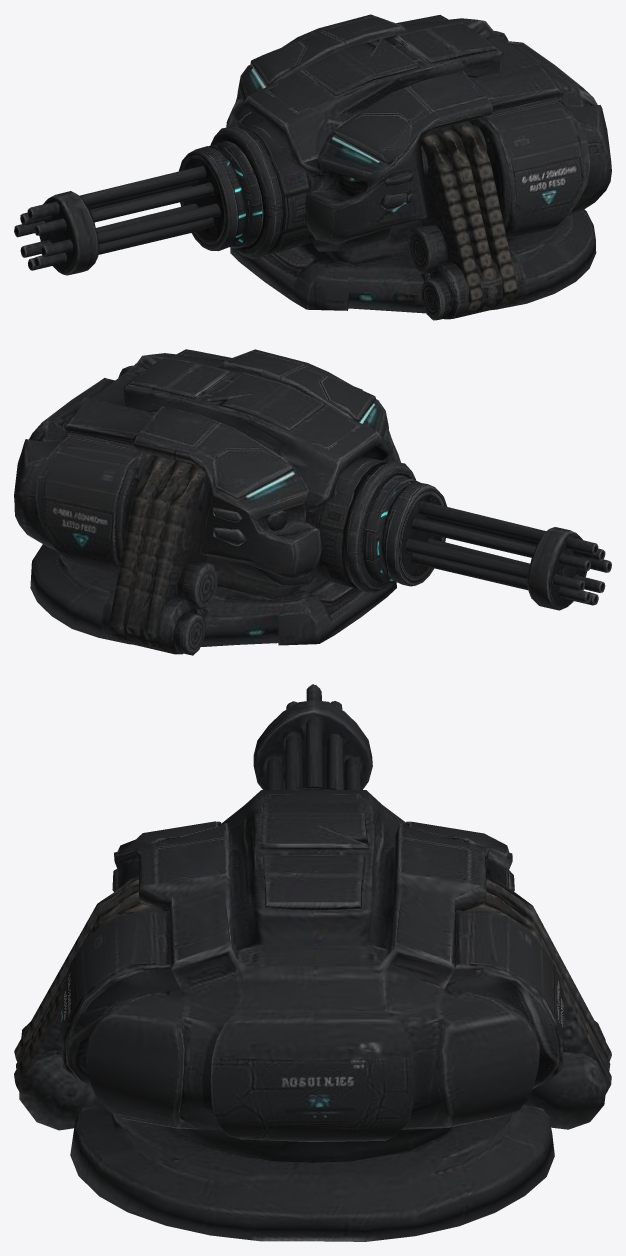
File: wpn_gatling.glb
3 renders of one model, top to bottom at view 1: azimuth 30°, elevation 25°; view 2: azimuth 150°, elevation 25°; view 3: azimuth 270°, elevation 25°, orthographic. The views are drawn at different scales.
Bounding box in the file's own units: 1 × 0.3575 × 0.6831.
Materials: 1 (1 with a texture image).
